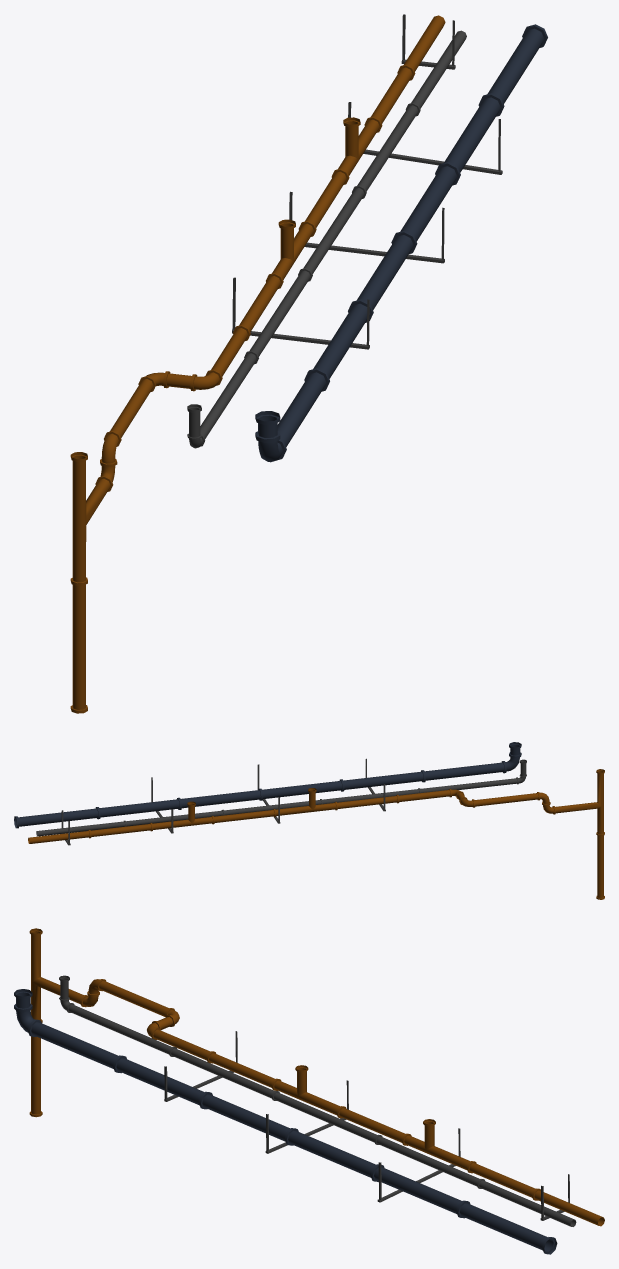
The model's file is SM_H_Building_Tide_WardenBoxroom_08d_ATLAS.fbx.
3 renders of one model, top to bottom at view 1: azimuth 30°, elevation 25°; view 2: azimuth 150°, elevation 25°; view 3: azimuth 270°, elevation 25°, orthographic. The views are drawn at different scales.
Visible parts, largest first — view 1: SM_H_Building_Tide_WardenBoxroom_08d_ATLAS; view 2: SM_H_Building_Tide_WardenBoxroom_08d_ATLAS; view 3: SM_H_Building_Tide_WardenBoxroom_08d_ATLAS.
Part boxes in pixels (x1,y1,x2,y2): SM_H_Building_Tide_WardenBoxroom_08d_ATLAS: (70, 14, 547, 713); SM_H_Building_Tide_WardenBoxroom_08d_ATLAS: (14, 742, 604, 899); SM_H_Building_Tide_WardenBoxroom_08d_ATLAS: (14, 928, 604, 1254).
Bounding box in the file's own units: 1788 × 1531 × 533.
